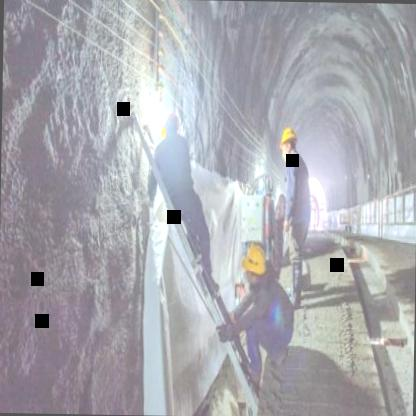helmet: (240, 240, 268, 290), (276, 122, 297, 167), (161, 108, 180, 142)
